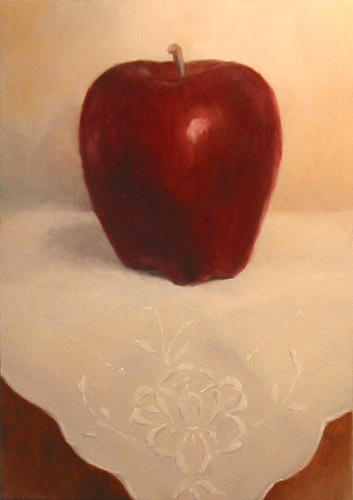apple: (78, 41, 284, 287)
